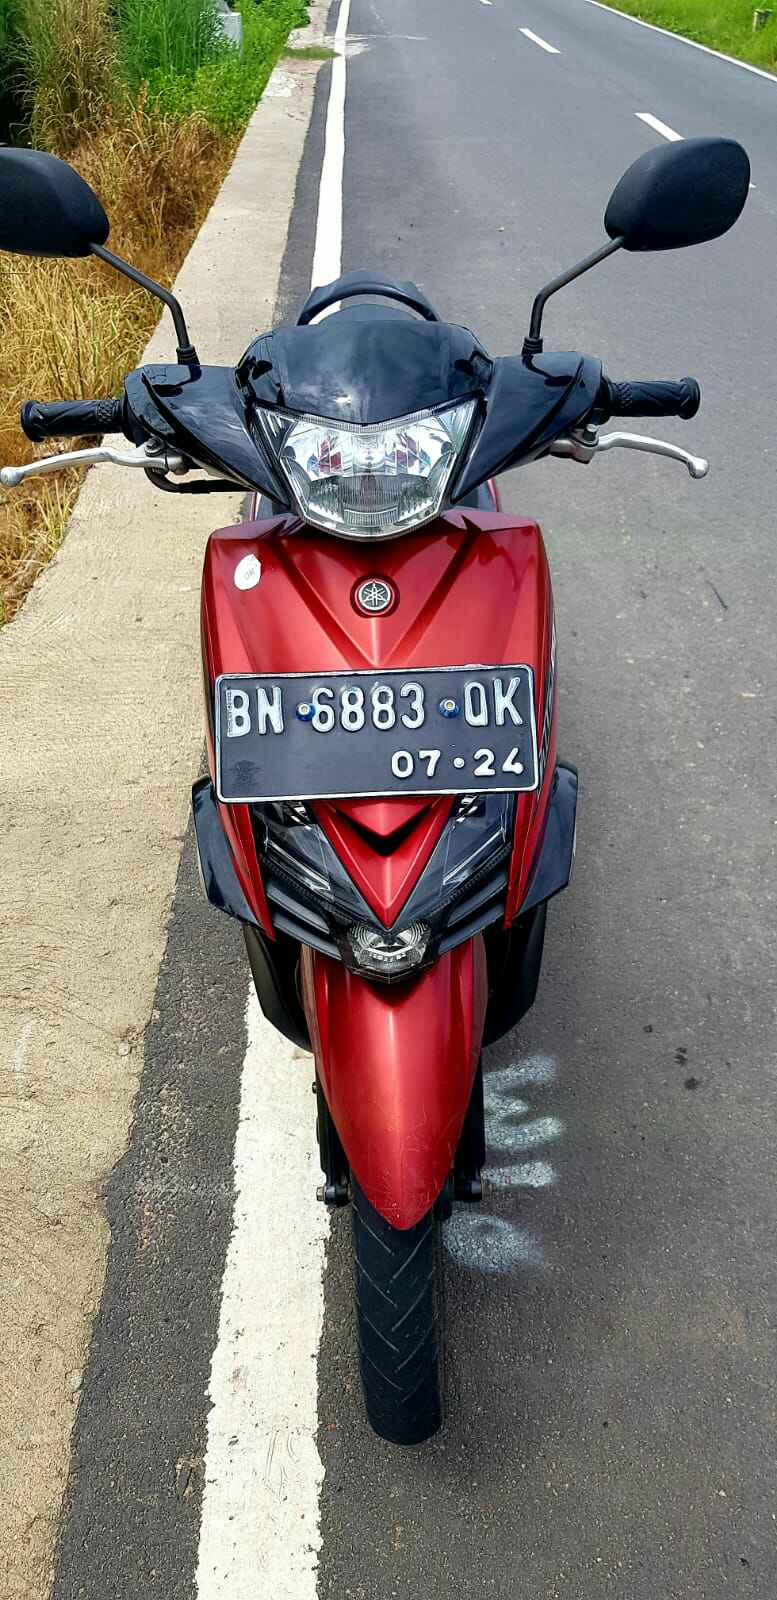plate: (201, 665, 540, 797)
